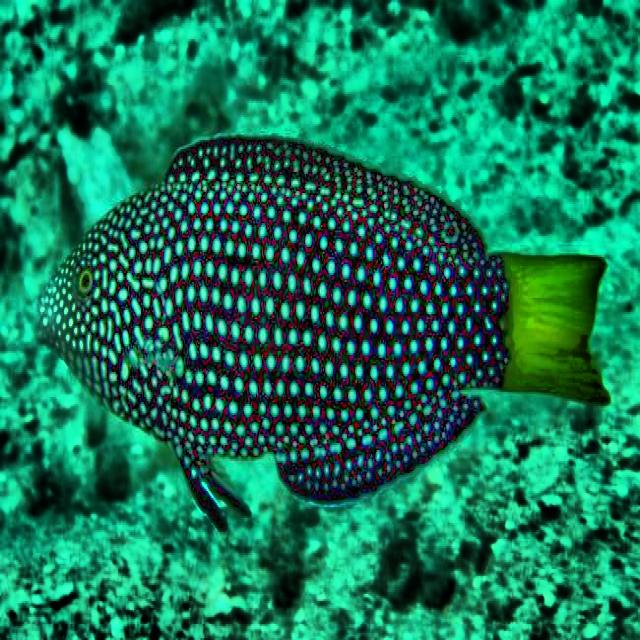fish: (36, 125, 611, 533)
